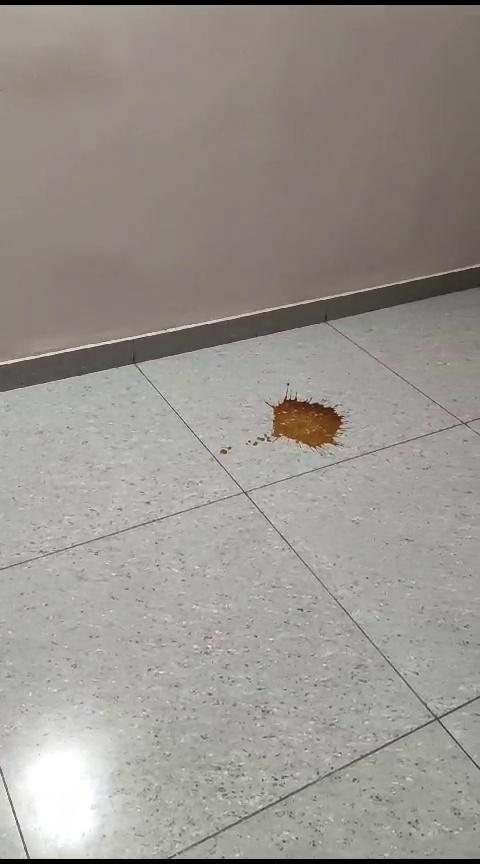dirty_floor: (220, 381, 351, 467)
